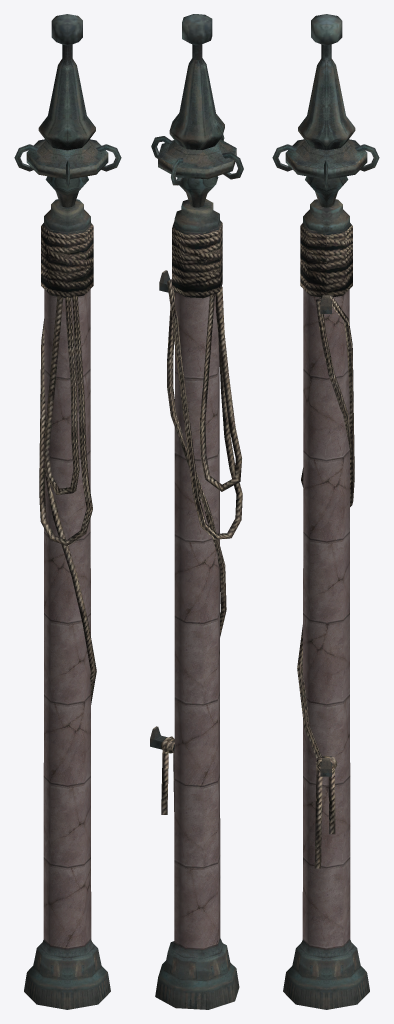
File: TentGidung.fbx
3 views of the same model, side by side, from view 1: azimuth 90°, elevation 25°; view 2: azimuth 150°, elevation 25°; view 3: azimuth 270°, elevation 25° (orthographic).
Visible parts, largest first — view 1: LV_Compagna_Object_OutPillar01_SM_NWCDOR; view 2: LV_Compagna_Object_OutPillar01_SM_NWCDOR; view 3: LV_Compagna_Object_OutPillar01_SM_NWCDOR.
Boxes of the visible parts, x1,y1,x2,y2 form: LV_Compagna_Object_OutPillar01_SM_NWCDOR: [14, 14, 121, 1009]; LV_Compagna_Object_OutPillar01_SM_NWCDOR: [150, 14, 243, 1009]; LV_Compagna_Object_OutPillar01_SM_NWCDOR: [272, 14, 379, 1009].
Size of the model in its own units: 0.1463 by 1.47 by 0.1463.
Materials: 1 (1 with a texture image).
